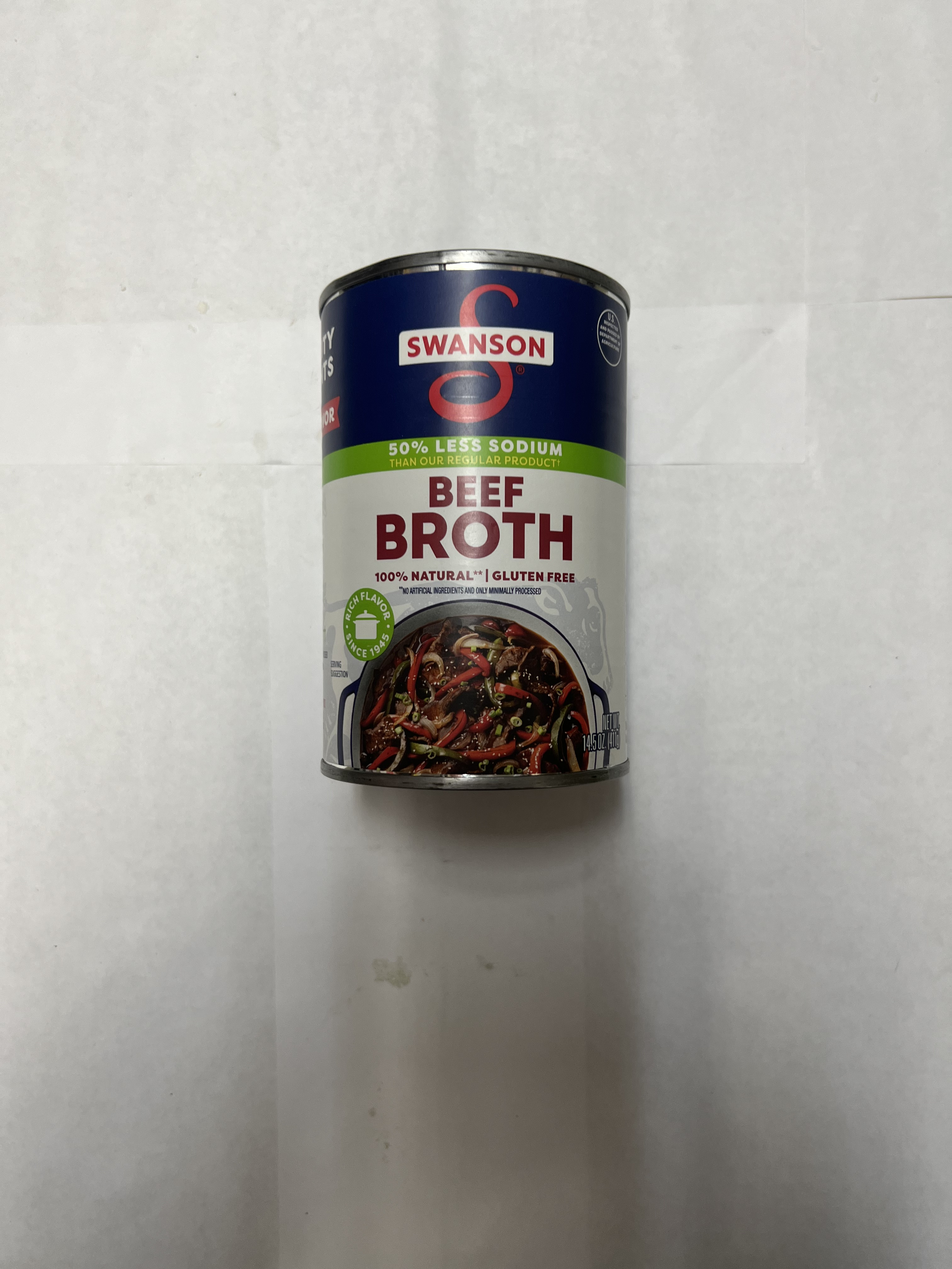packaged: (312, 245, 638, 800)
